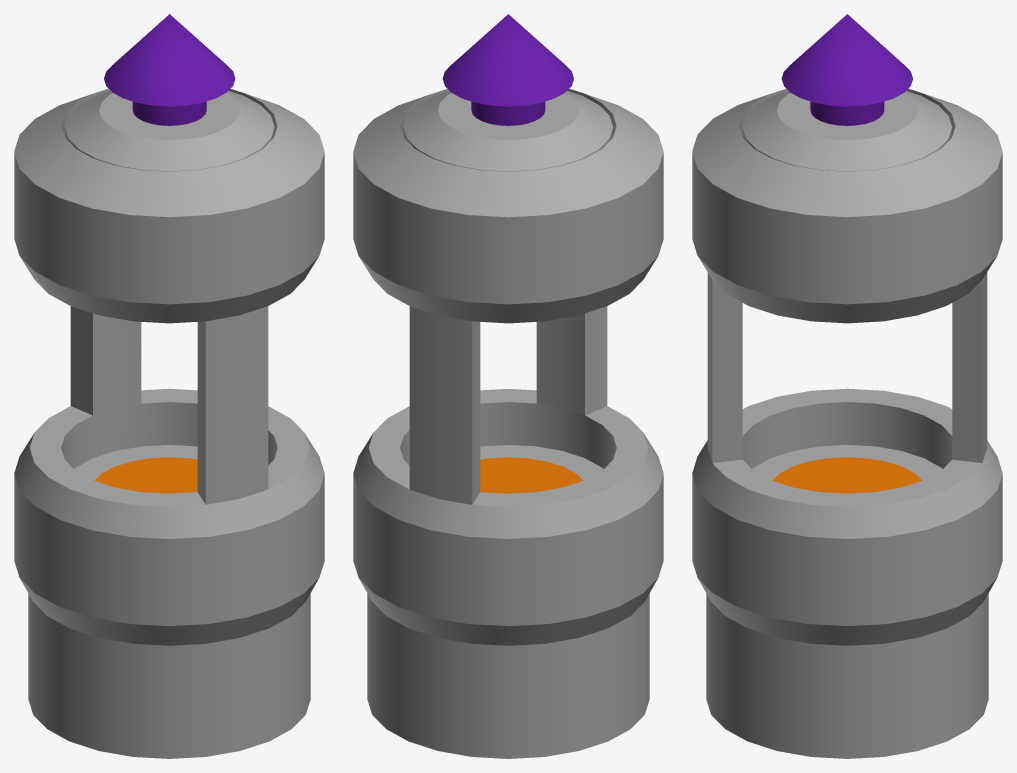
File: Compressor.fbx
The picture shows the model from 3 angles, left to right: view 1: azimuth 30°, elevation 25°; view 2: azimuth 150°, elevation 25°; view 3: azimuth 270°, elevation 25°; orthographic projection.
Parts seen in each view (by area): view 1: Compressor Body, Compressor Press; view 2: Compressor Body, Compressor Press; view 3: Compressor Body, Compressor Press.
Part boxes in pixels (x1,y1,x2,y2): Compressor Body: (14, 88, 324, 758); Compressor Press: (65, 14, 274, 171); Compressor Body: (353, 88, 663, 758); Compressor Press: (403, 14, 613, 171); Compressor Body: (692, 88, 1002, 758); Compressor Press: (742, 14, 952, 171).
Bounding box in the file's own units: 220 × 536 × 220.
